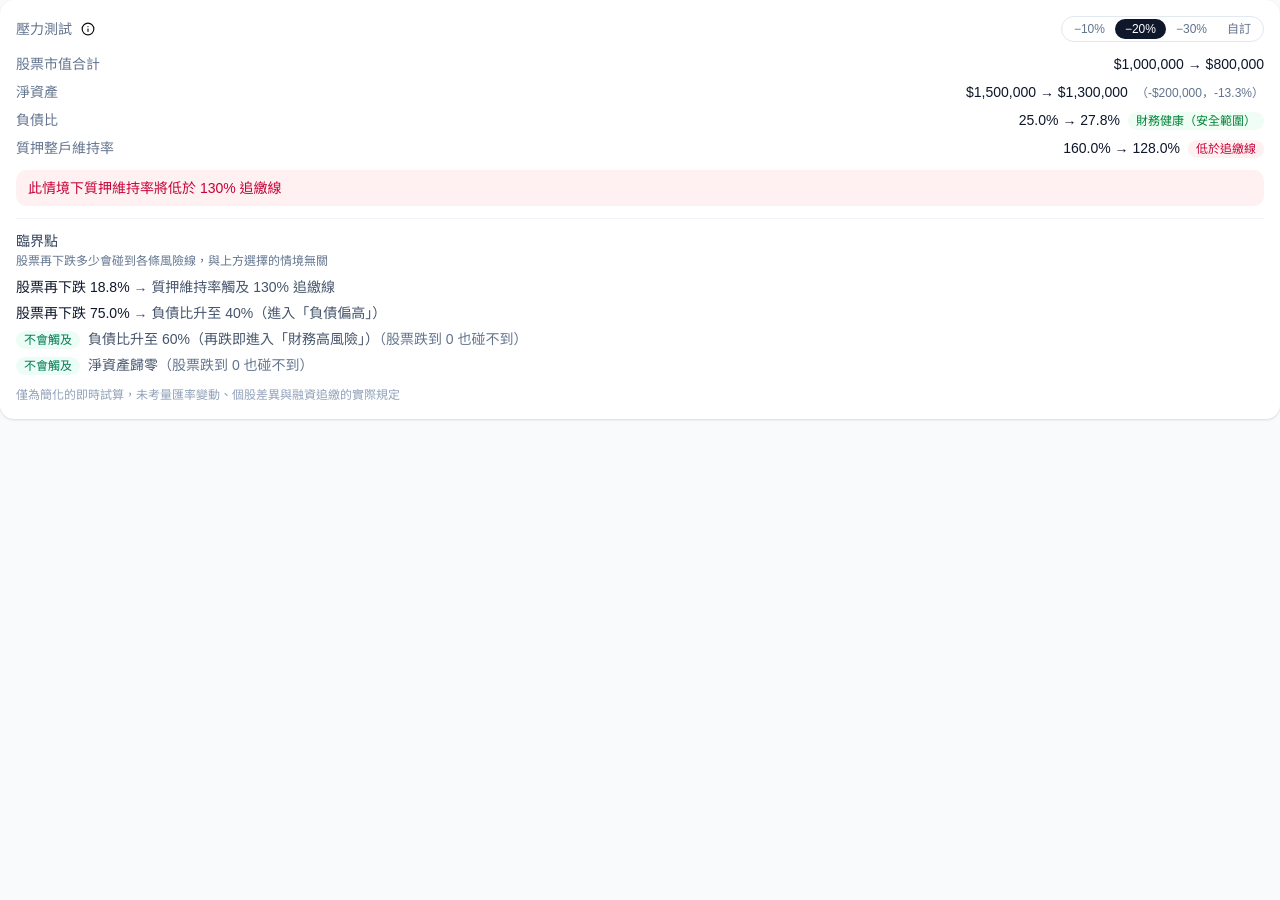
Scenario: StressTestCard › 臨界點 › 公式說明：質押追繳線代入現況維持率
The image size is (1280, 900).
Click the button named "壓力測試計算公式說明": [88, 29] box [76,17,100,41]
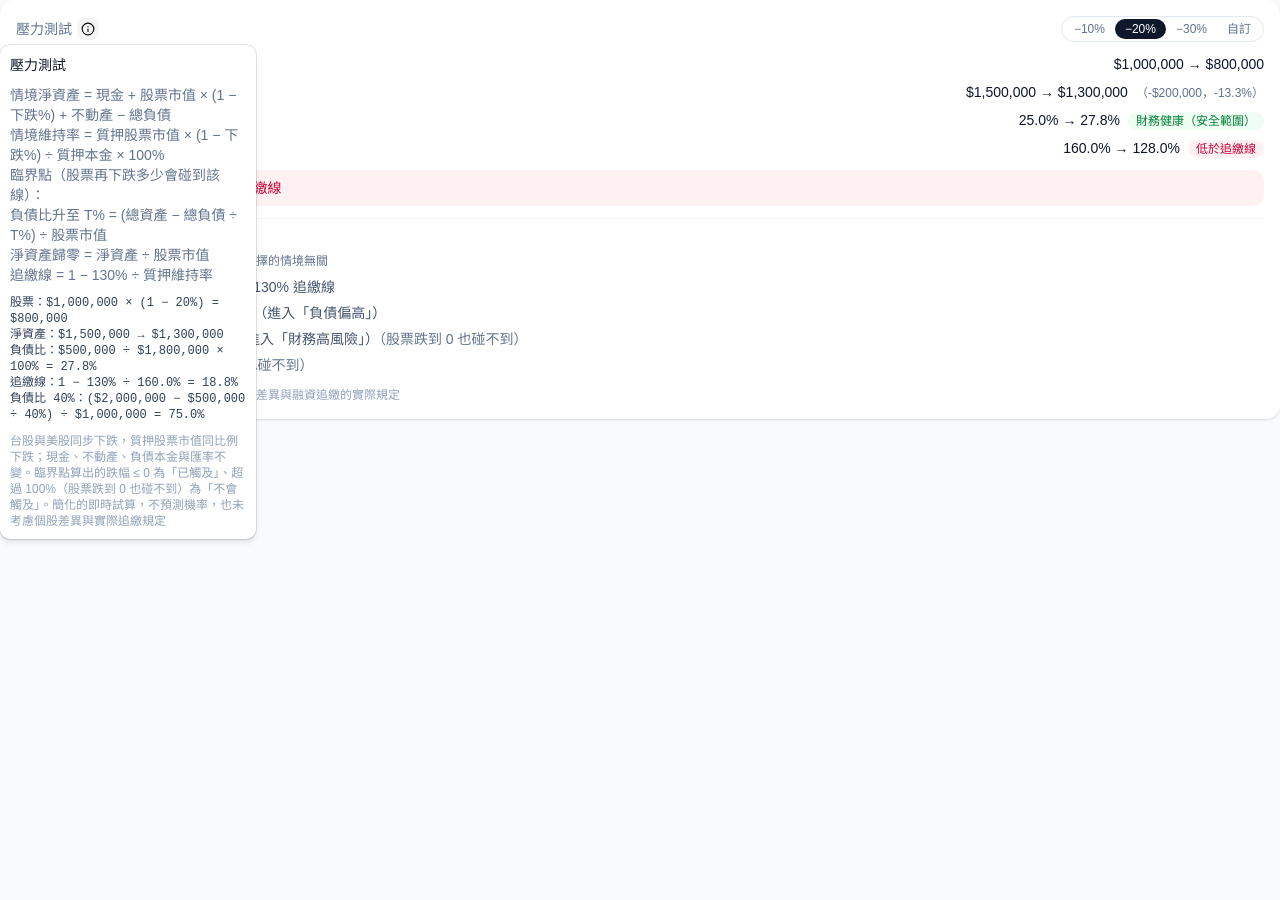
expect the dialog with test id "formula-info-content" shows "追繳線：1 − 130% ÷ 160.0% = 18.8%": met, box [10,296,245,422]
